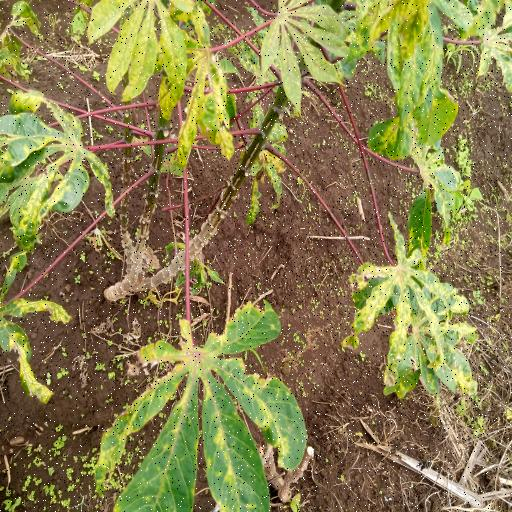Cassava_Mosaic: (105, 307, 311, 512), (352, 214, 480, 402), (355, 2, 468, 150), (0, 90, 96, 250)
